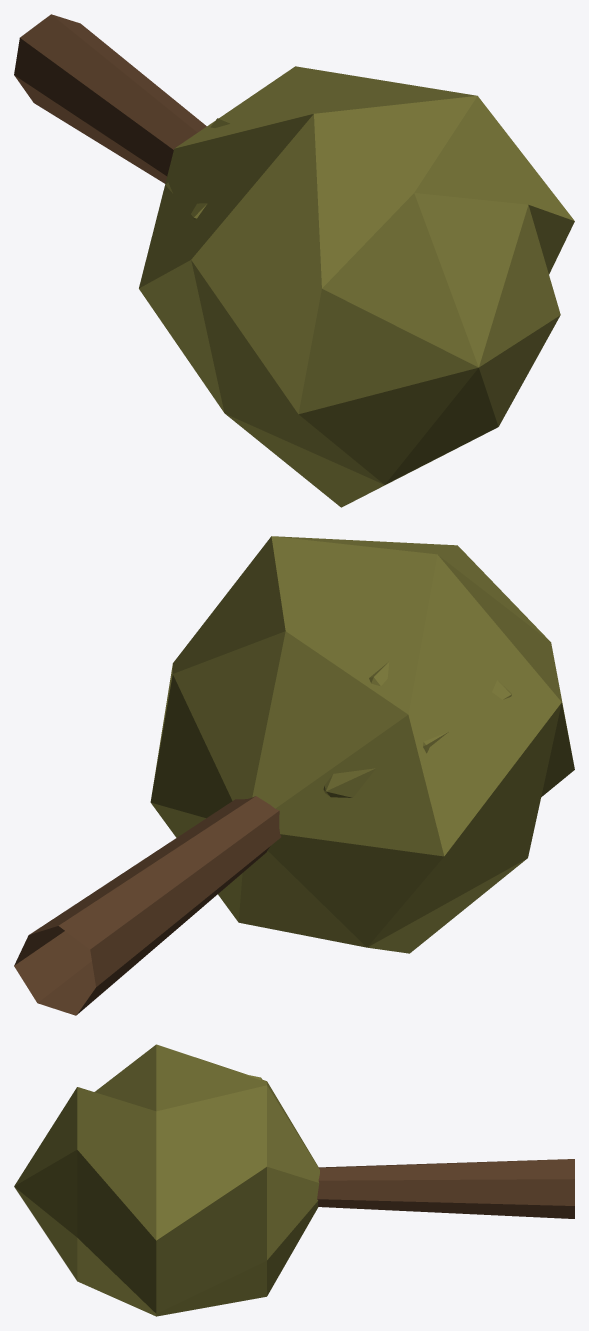
Rendered from dying_1.glb.
The picture shows the model from 3 angles, top to bottom: view 1: azimuth 30°, elevation 25°; view 2: azimuth 150°, elevation 25°; view 3: azimuth 270°, elevation 25°; orthographic projection. The views are drawn at different scales.
Visible parts, largest first — view 1: tree_07_dying_1; view 2: tree_07_dying_1; view 3: tree_07_dying_1.
Part boxes in pixels (left/top/right/bottom): tree_07_dying_1: left=14, top=14, right=574, bottom=507; tree_07_dying_1: left=14, top=536, right=574, bottom=1015; tree_07_dying_1: left=14, top=1044, right=574, bottom=1316.
Size of the model in its own units: 12.49 by 12.45 by 24.03.
